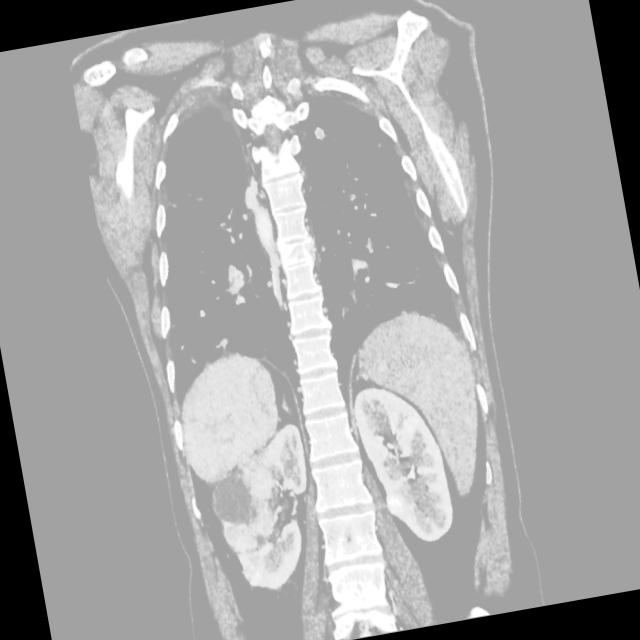TUMOR: (129, 267, 570, 540)
